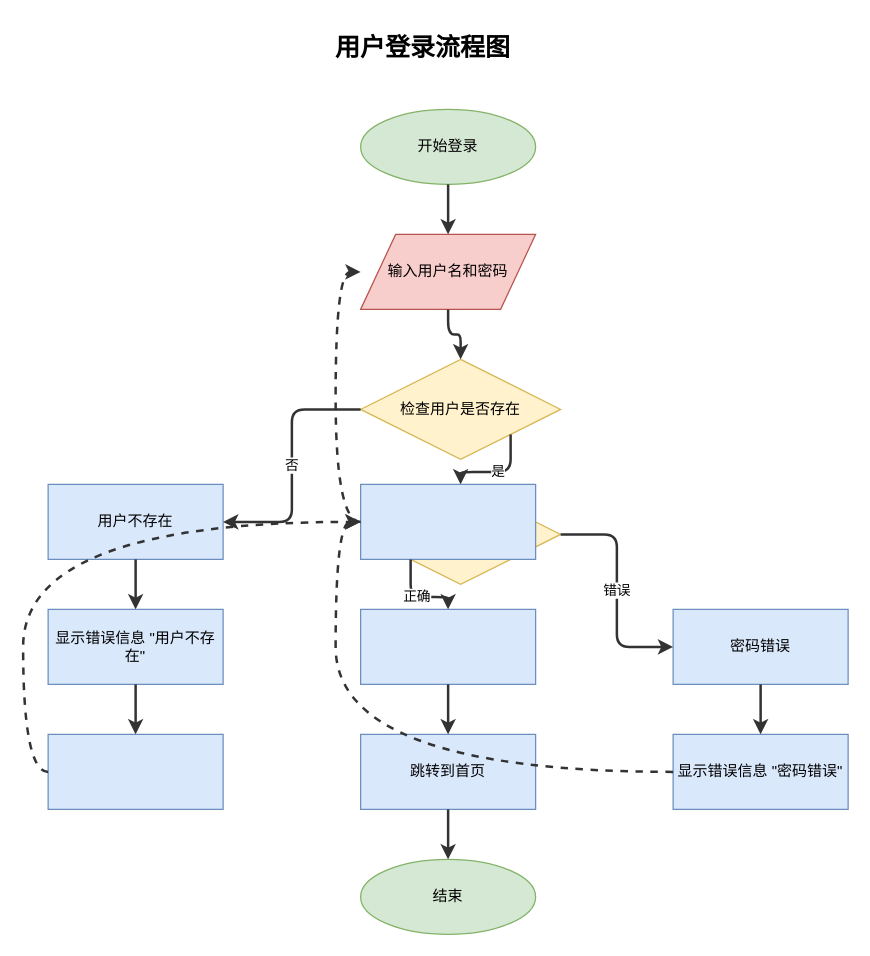
Image size: 870x956. Some labels were removed from this diagram. Here are the shapes that lost their labels. From the top down, the box of each, then its label:
(359, 483, 536, 559): 重新尝试登录
(359, 483, 561, 584): 验证密码
(359, 608, 536, 684): 登录成功
(47, 733, 223, 809): 返回登录页面
